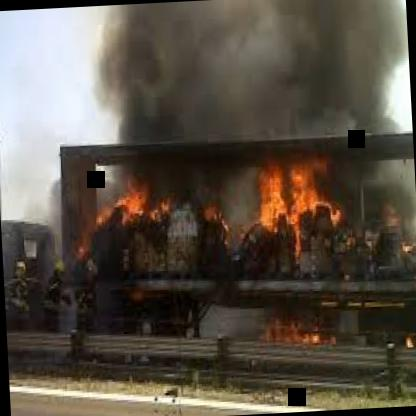fire: (68, 146, 338, 348), (100, 0, 376, 151)
